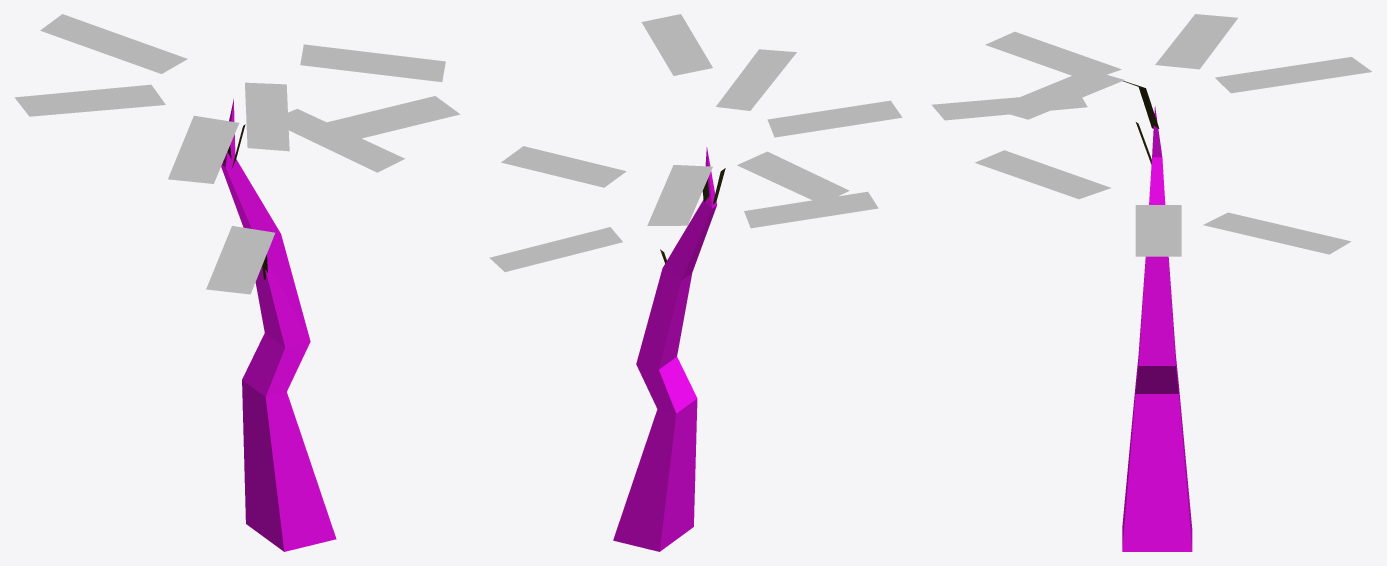
Rendered from jungle tree 1.obj.
The picture shows the model from 3 angles, left to right: view 1: azimuth 30°, elevation 25°; view 2: azimuth 150°, elevation 25°; view 3: azimuth 270°, elevation 25°; orthographic projection. The views are drawn at different scales.
Parts seen in each view (by area): view 1: jungle tree 1_back; view 2: jungle tree 1_back; view 3: jungle tree 1_back.
Part boxes in pixels (x1,y1,x2,y2): jungle tree 1_back: [14, 14, 460, 551]; jungle tree 1_back: [489, 14, 902, 551]; jungle tree 1_back: [931, 14, 1371, 551].
Size of the model in its own units: 2.82 by 3.39 by 2.96.
